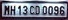character: (4, 5, 10, 15), (10, 5, 16, 15), (22, 5, 28, 15), (59, 5, 65, 15), (17, 5, 22, 15), (35, 5, 40, 15), (48, 5, 53, 15), (53, 5, 58, 15), (29, 5, 34, 14), (42, 5, 47, 14)
